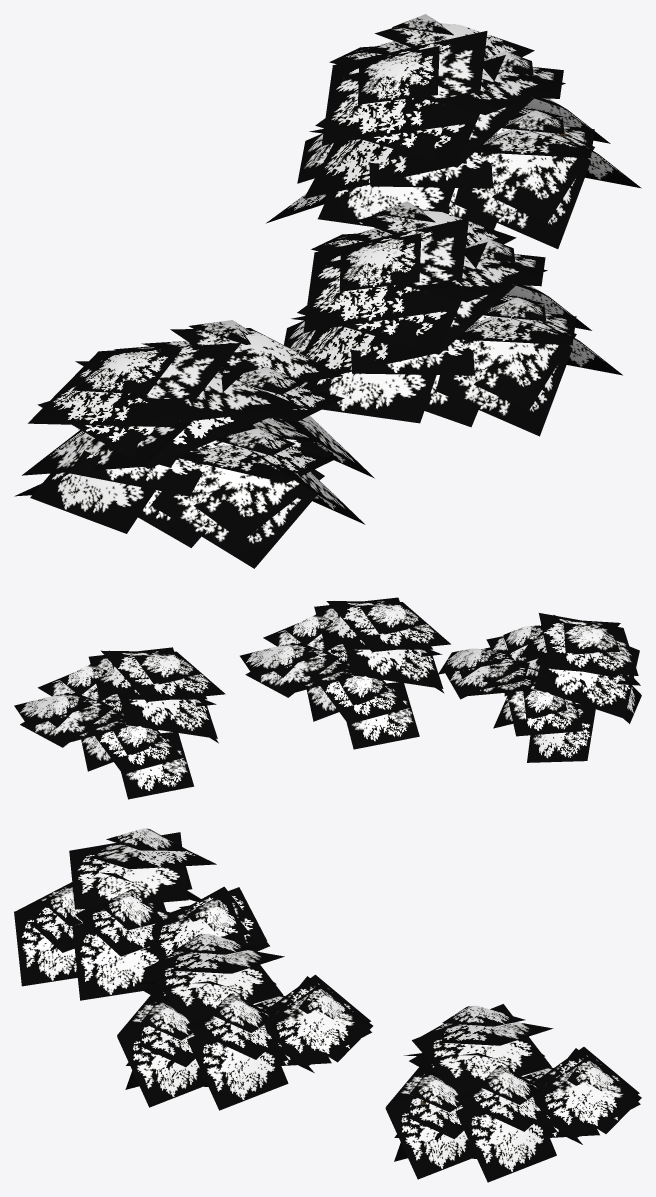
File: nder46.obj
3 views of the same model, one above another, from view 1: azimuth 30°, elevation 25°; view 2: azimuth 150°, elevation 25°; view 3: azimuth 270°, elevation 25° (orthographic). The views are drawn at different scales.
Parts seen in each view (by area): view 1: nder46; view 2: nder46; view 3: nder46.
Boxes of the visible parts, x1,y1,x2,y2 form: nder46: (14,14,641,568); nder46: (14,597,641,799); nder46: (14,828,641,1182).
Size of the model in its own units: 536 by 122 by 500.
